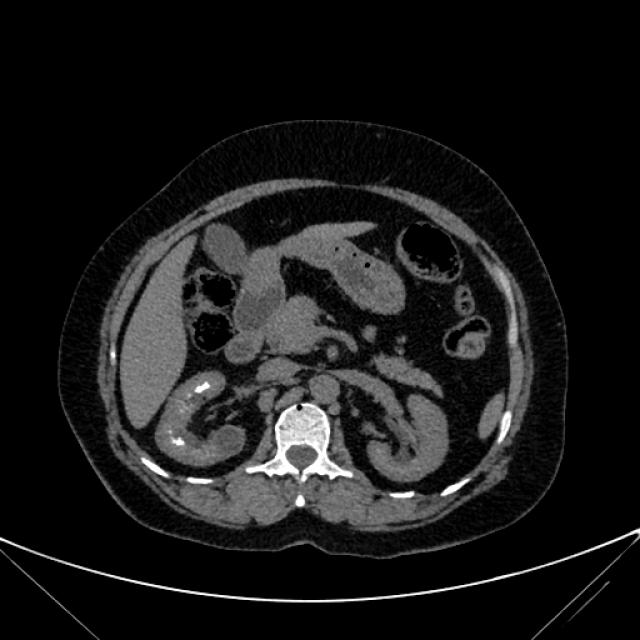kidney: (157, 372, 250, 466), (360, 392, 452, 486)
stone: (194, 377, 211, 394), (171, 435, 185, 447)
